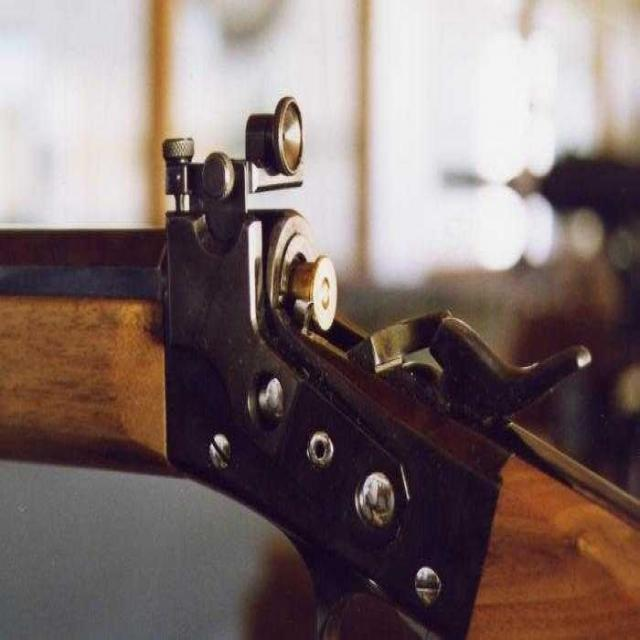weapon: (0, 75, 624, 630)
